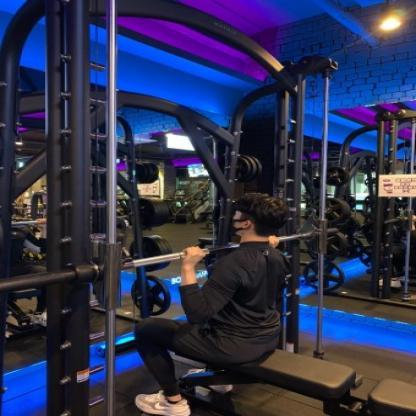smith machine: (2, 2, 341, 416)
